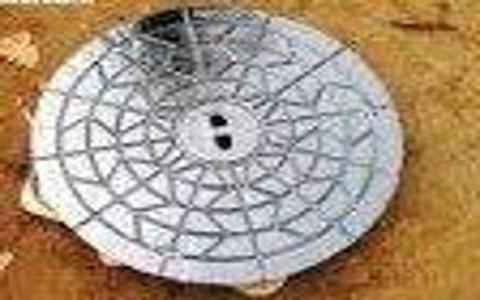proper manhole: (26, 7, 407, 287)
